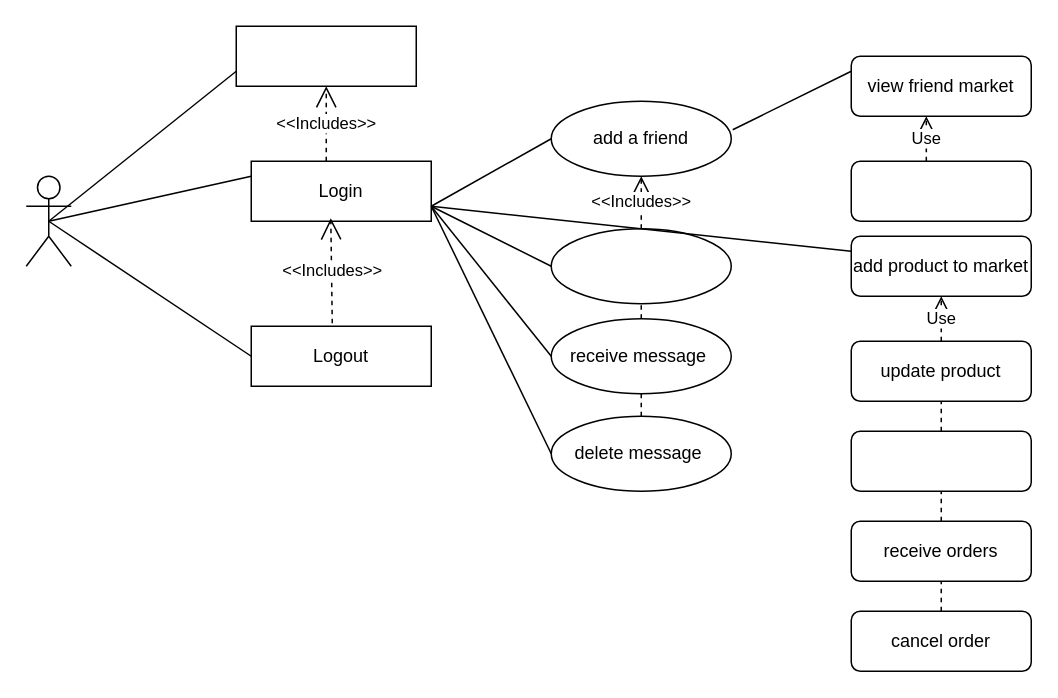
This 1058x698 diagram has some shape labels left out. Each missing label, with the centre of its shape:
Actor: the point at 48,220
Create an Account: the point at 325,55
delete product: the point at 940,460
place orders: the point at 940,190
send message: the point at 640,265
